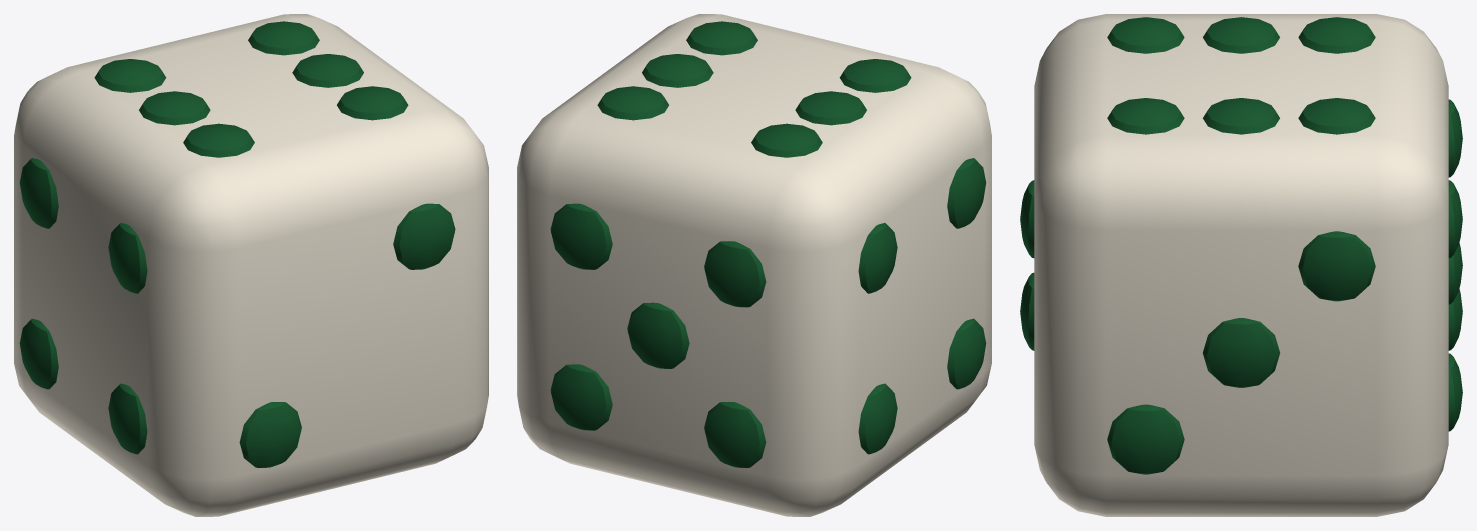
Rendered from dado.glb.
3 renders of one model, left to right at view 1: azimuth 30°, elevation 25°; view 2: azimuth 150°, elevation 25°; view 3: azimuth 270°, elevation 25°, orthographic. The views are drawn at different scales.
Parts seen in each view (by area): view 1: Dado, Pontos; view 2: Dado, Pontos; view 3: Dado, Pontos.
Part boxes in pixels (bbox=[...]): Dado: bbox=[14, 14, 488, 516]; Pontos: bbox=[19, 21, 455, 467]; Dado: bbox=[517, 14, 991, 516]; Pontos: bbox=[550, 21, 986, 467]; Dado: bbox=[1034, 14, 1448, 516]; Pontos: bbox=[1020, 17, 1462, 474].
Size of the model in its own units: 0.278 by 0.278 by 0.278.
